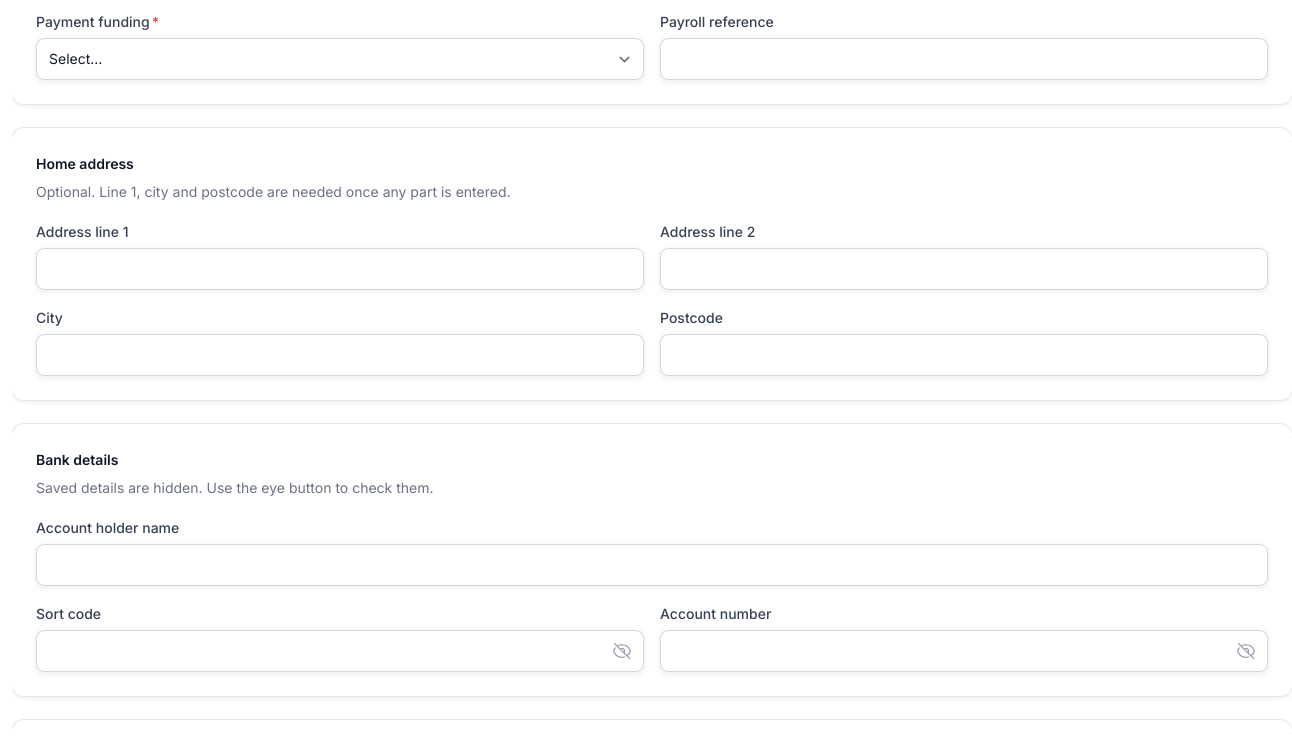
StaffPayrollForm › clears the error after a successful save
This screenshot has width=1292, height=746.
Step 1. Select "School" in the dropdown labelled "Payment funding*" → [340, 59], box x1=36 y1=38 x2=644 y2=80
(page scrolled)
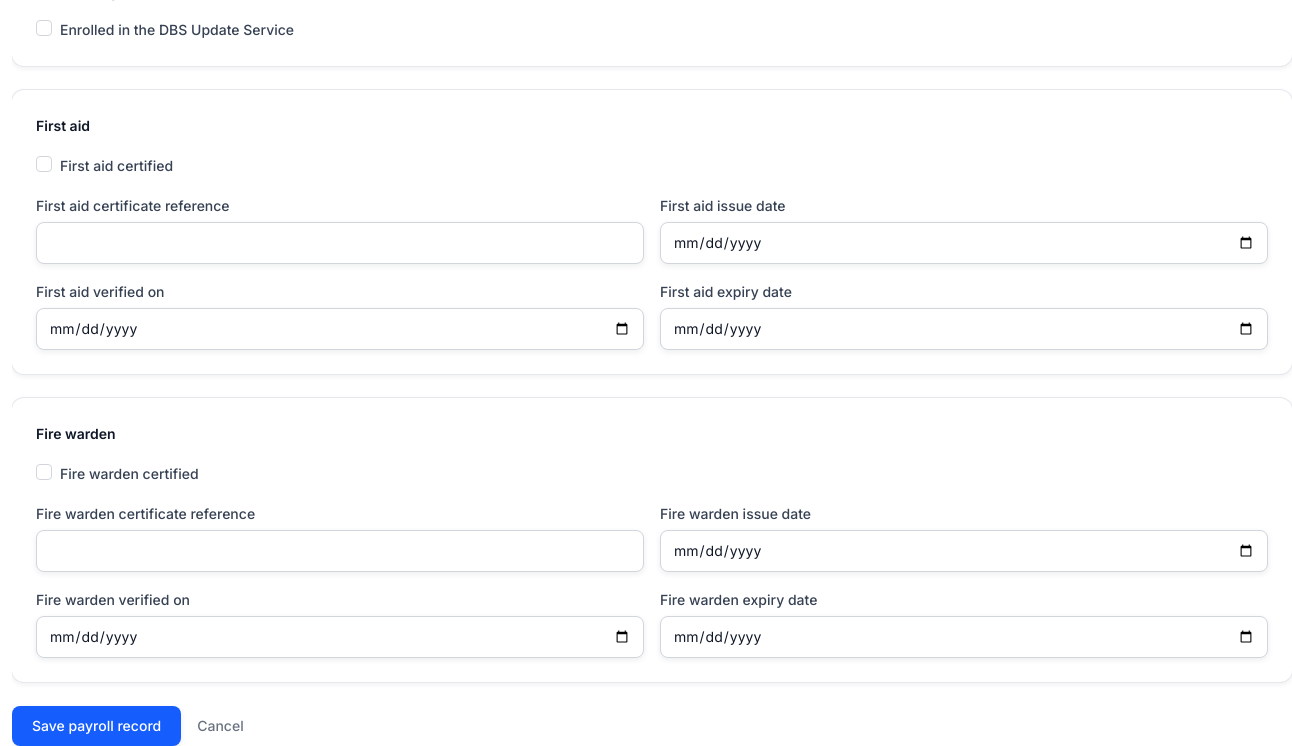
Step 2. Click the button "Save payroll record" → [97, 726], box x1=12 y1=706 x2=181 y2=745
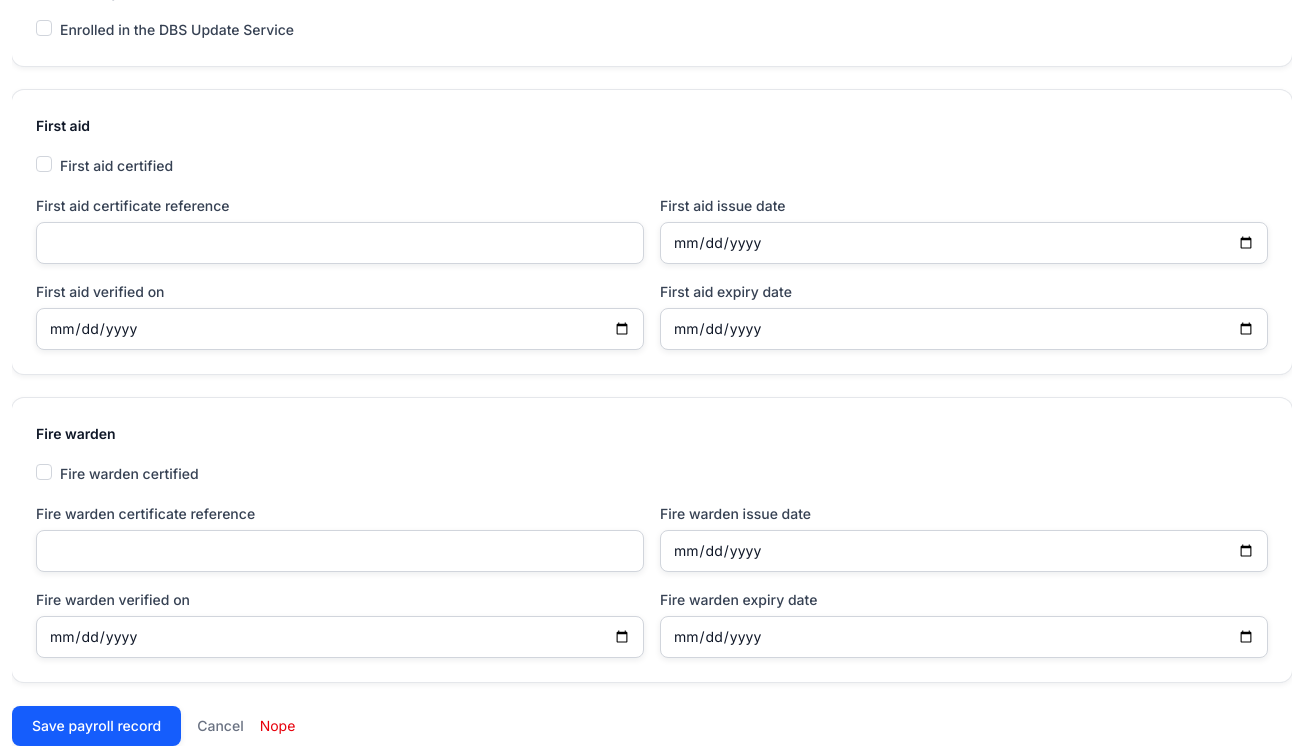
Now the message "Nope" is shown, box x1=260 y1=714 x2=295 y2=738
Step 3. Click the button "Save payroll record" → [97, 726], box x1=12 y1=706 x2=181 y2=745
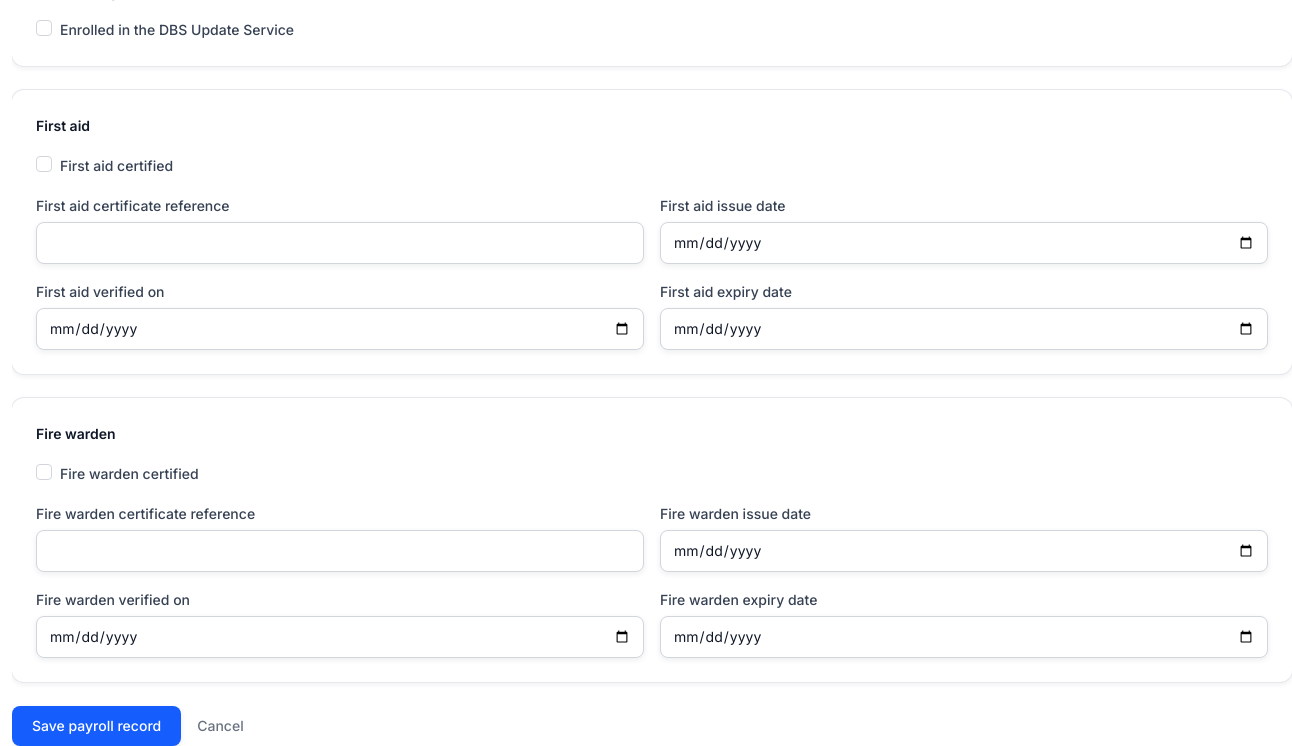
Now the message "Nope" is gone
